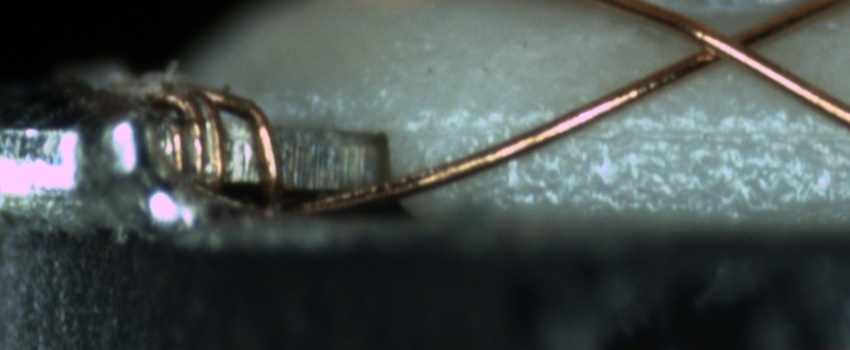CL: (677, 12, 781, 76)
DL: (438, 100, 850, 167)
TE: (146, 71, 296, 219)
